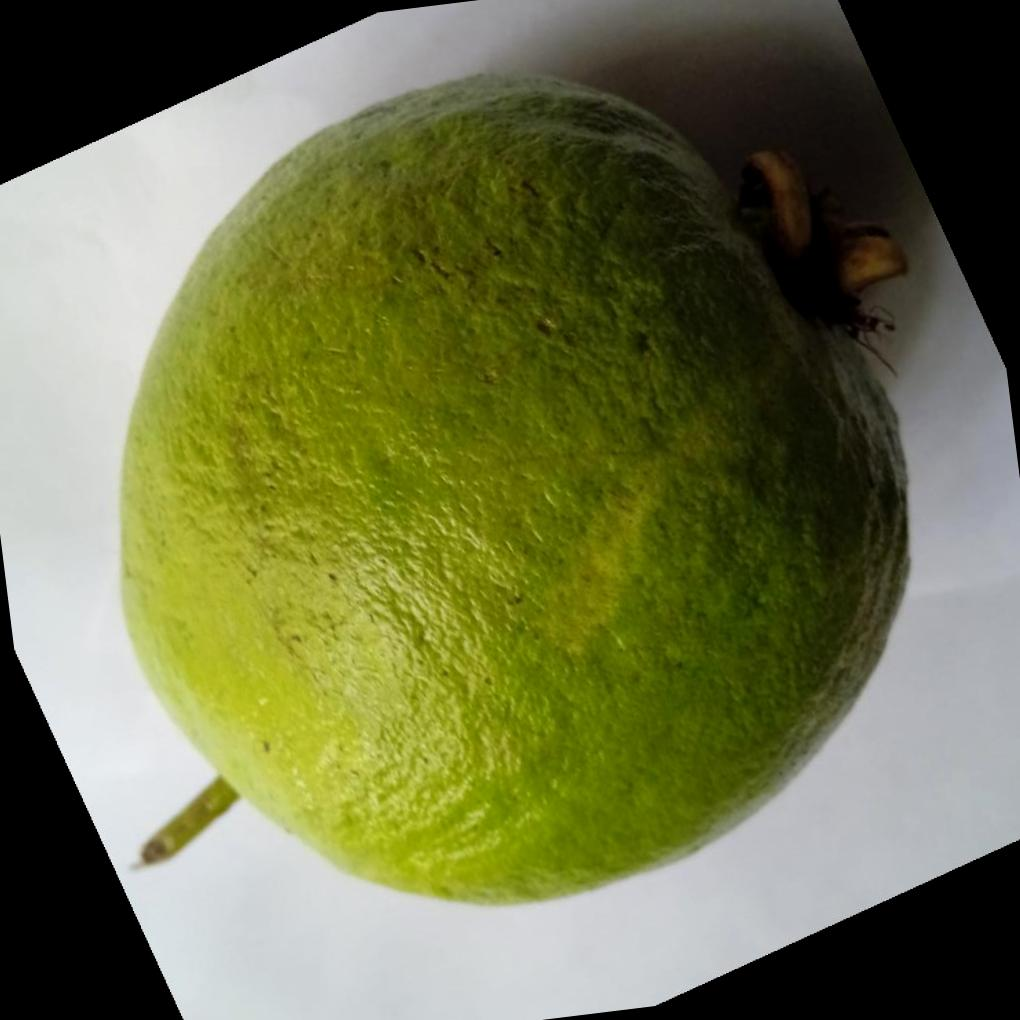FreshGuava: (111, 70, 907, 909)
